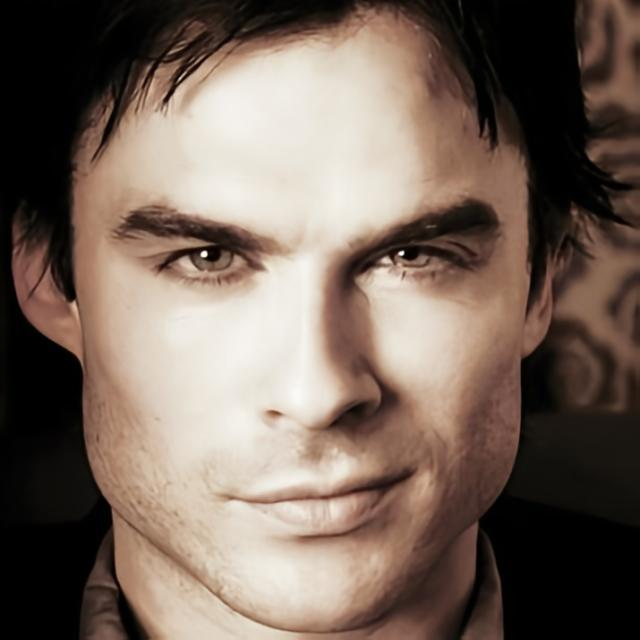content: (72, 0, 532, 637)
